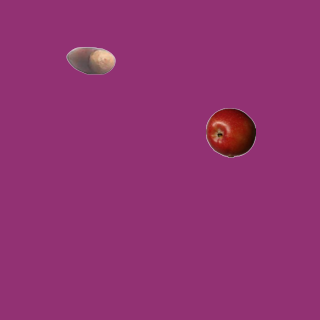Apple Braeburn: (205, 107, 255, 157)
Hazelnut: (65, 35, 115, 85)
